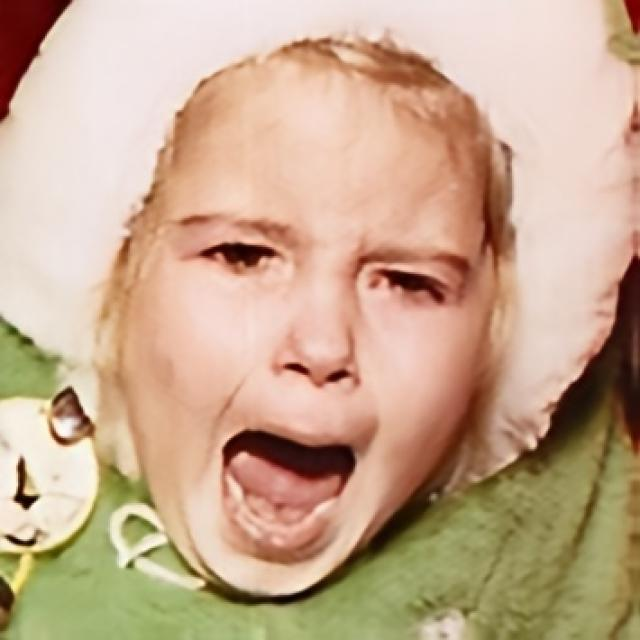fear: (124, 36, 502, 598)
